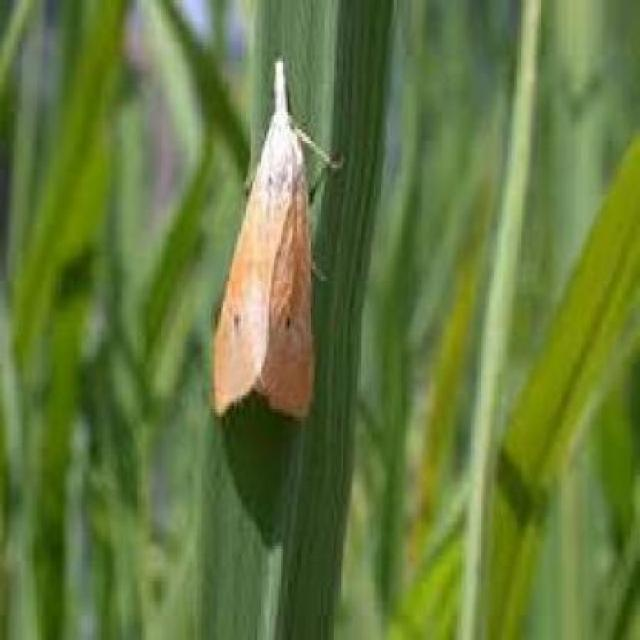stem-borer: (210, 50, 344, 425)
